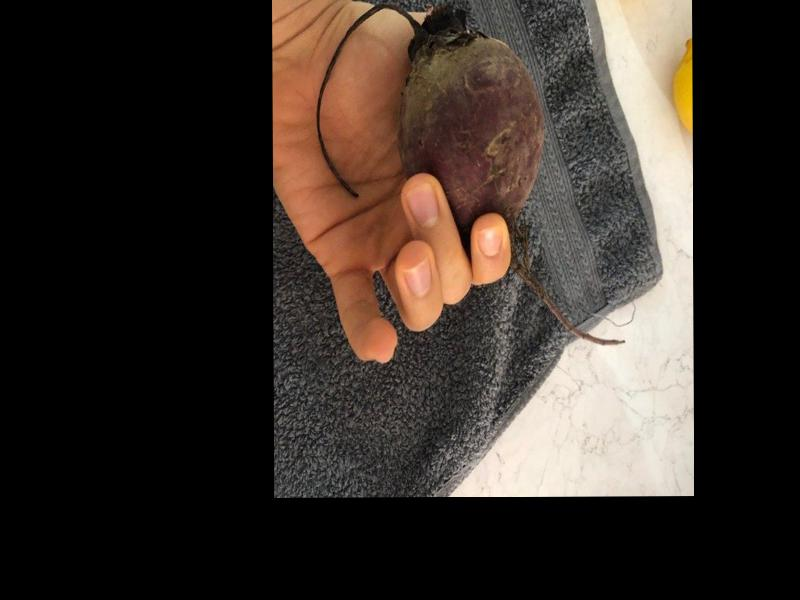Beet: (315, 5, 624, 345)
